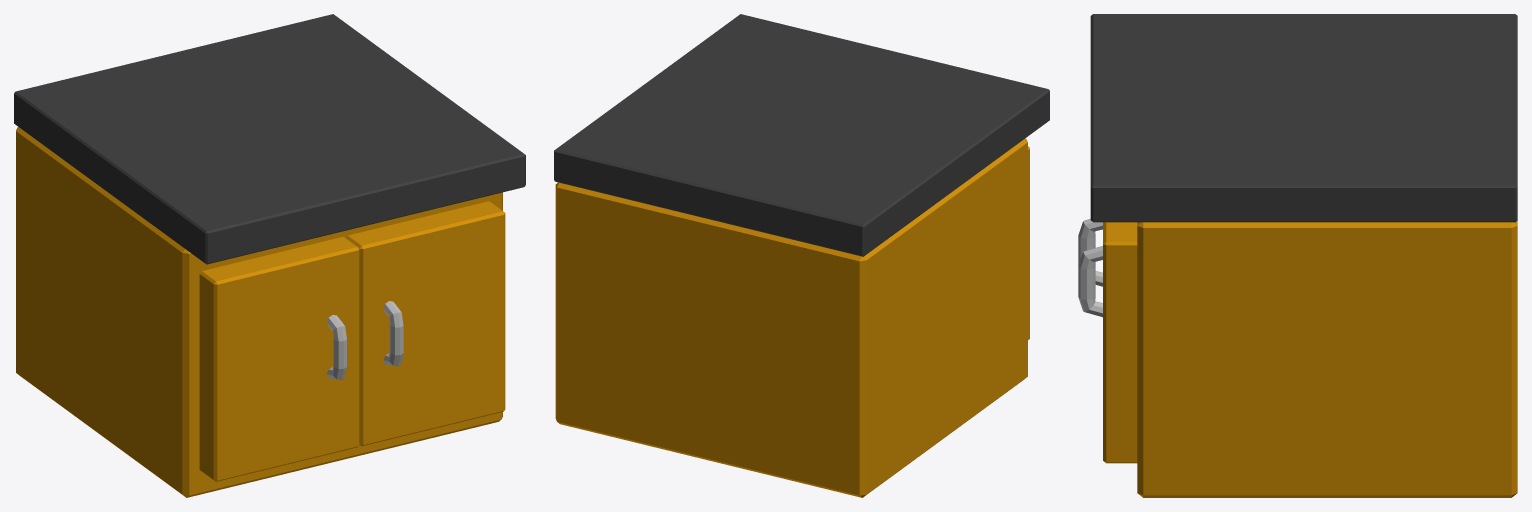
Rendered from Counter2.fbx.
The picture shows the model from 3 angles, left to right: view 1: azimuth 30°, elevation 25°; view 2: azimuth 150°, elevation 25°; view 3: azimuth 270°, elevation 25°; orthographic projection. The views are drawn at different scales.
Parts seen in each view (by area): view 1: Cabinet_Counter_4, Cabinet_Main_3, Cabinet_Door_L, Cabinet_Door_R, Cabinet_Handle_R, Cabinet_Handle_L; view 2: Cabinet_Main_3, Cabinet_Counter_4; view 3: Cabinet_Main_3, Cabinet_Counter_4, Cabinet_Door_R, Cabinet_Handle_R, Cabinet_Handle_L.
Boxes of the visible parts, <box> form: Cabinet_Counter_4: <box>14,14,525,264</box>; Cabinet_Main_3: <box>16,127,502,497</box>; Cabinet_Door_L: <box>199,236,359,481</box>; Cabinet_Door_R: <box>346,201,505,446</box>; Cabinet_Handle_R: <box>383,301,403,366</box>; Cabinet_Handle_L: <box>327,315,346,380</box>; Cabinet_Main_3: <box>555,138,1027,497</box>; Cabinet_Counter_4: <box>554,14,1049,256</box>; Cabinet_Main_3: <box>1137,221,1517,497</box>; Cabinet_Counter_4: <box>1090,14,1517,222</box>; Cabinet_Door_R: <box>1103,222,1137,463</box>; Cabinet_Handle_R: <box>1078,246,1102,317</box>; Cabinet_Handle_L: <box>1078,219,1102,286</box>.
Bounding box in the file's own units: 8.8 × 7.45 × 9.44.
